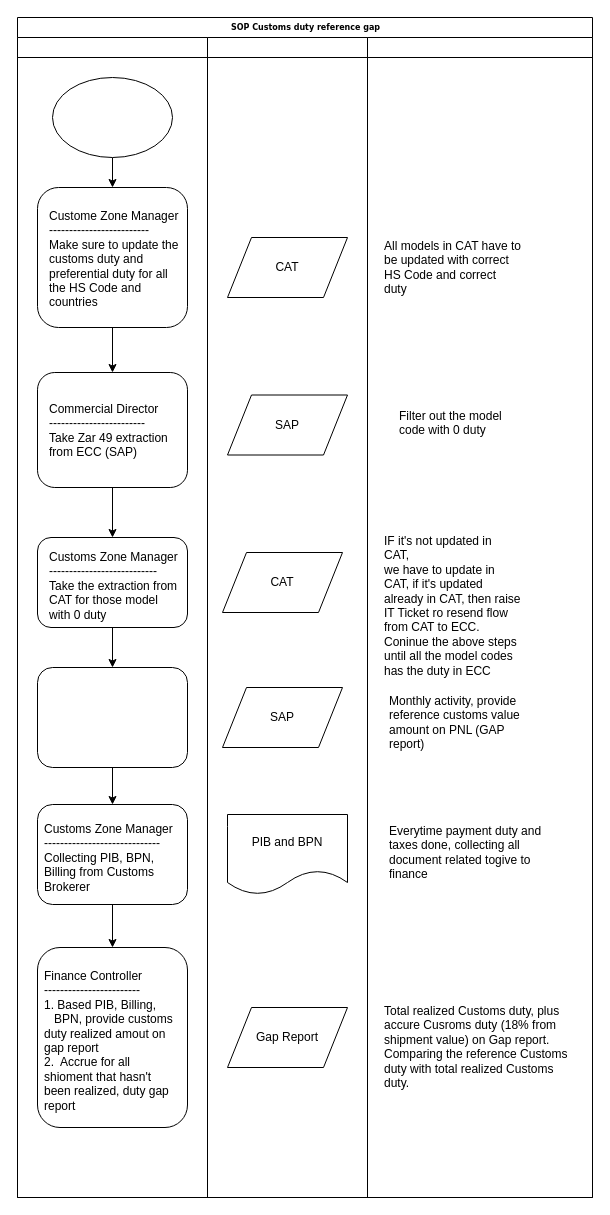
This 610x1215 diagram has some shape labels left out. Here are the shapes that lost their labels. From the top down, the box of each, then its label:
(52, 76, 172, 158): Start
(16, 36, 208, 1198): flow
(206, 36, 368, 1198): Database
(366, 36, 592, 1198): Description
(36, 666, 188, 768): Finance Controller ------------------------ Take Konvana file and data
